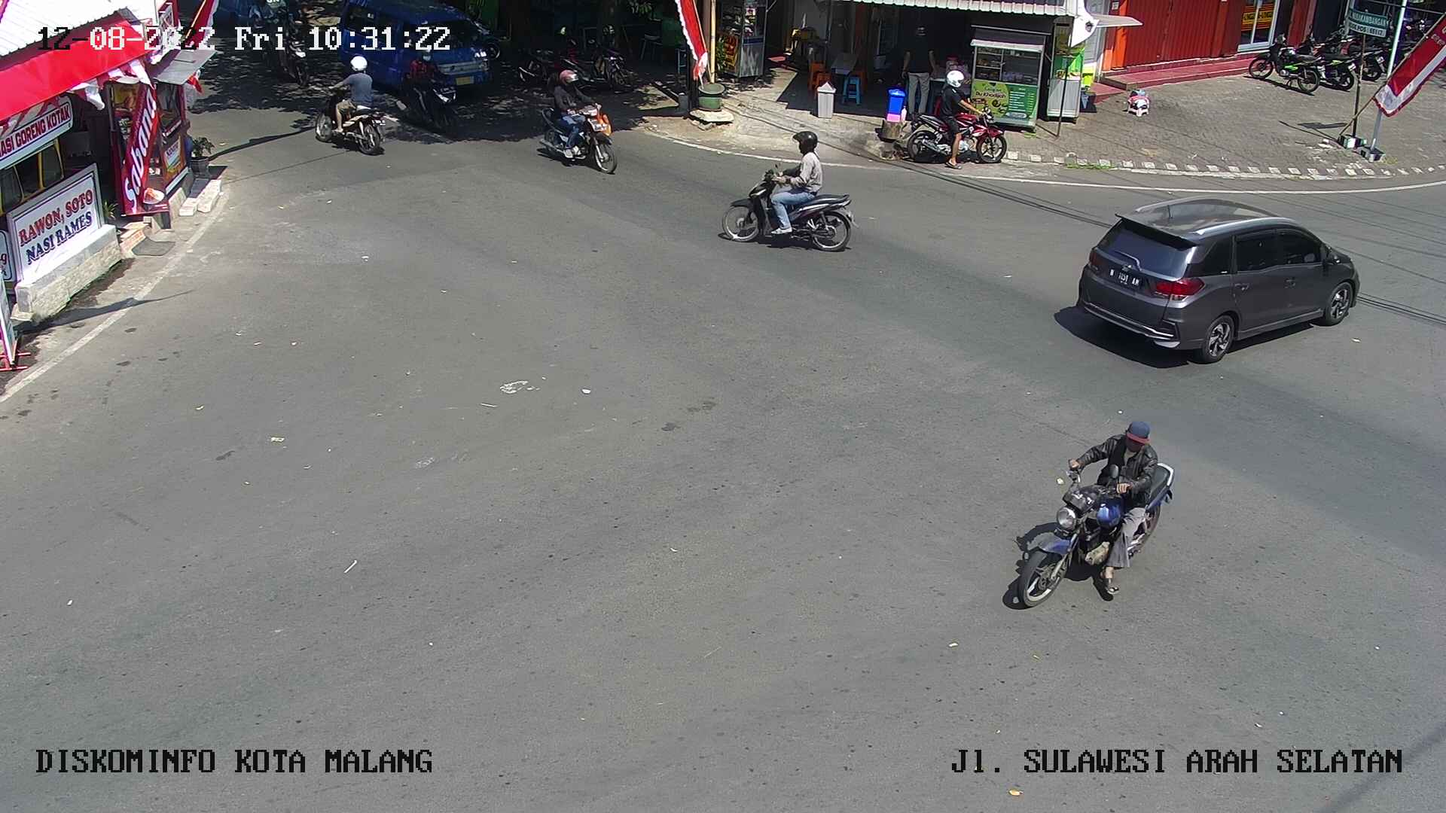with_helmet: (715, 129, 863, 261), (536, 67, 622, 180), (313, 49, 401, 156)
without_helmet: (1000, 414, 1179, 611)
